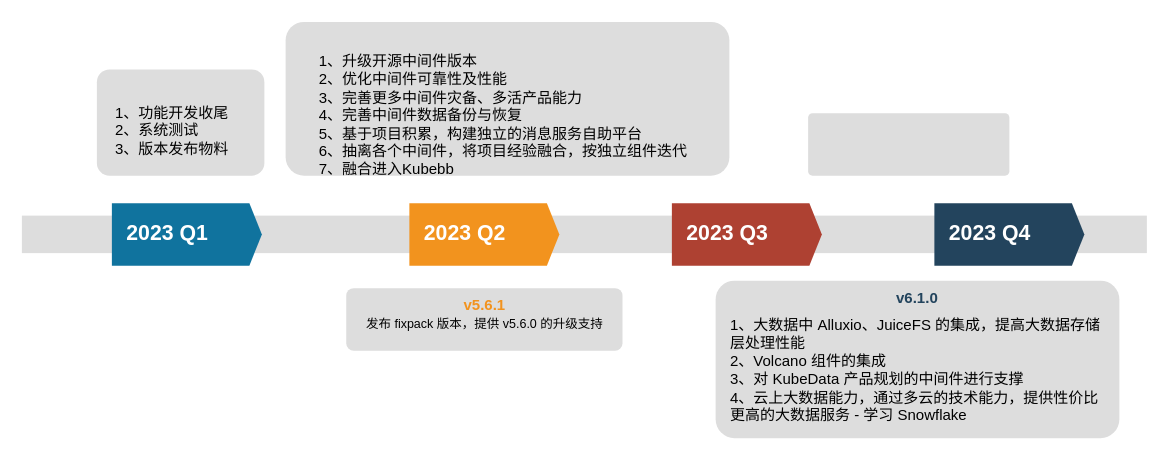
Some shapes in this 1168 by 459 pixel diagram are drawn without their labels. Each missing label, with the box of its shape:
v5.6.0: (96, 69, 264, 175)
v5.7.0 v5.6.0 版本之上的客户需求支持: (808, 112, 1009, 175)
v6.0: (285, 21, 729, 175)
